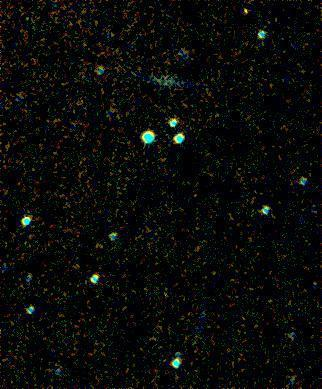star: (228, 0, 258, 26)
